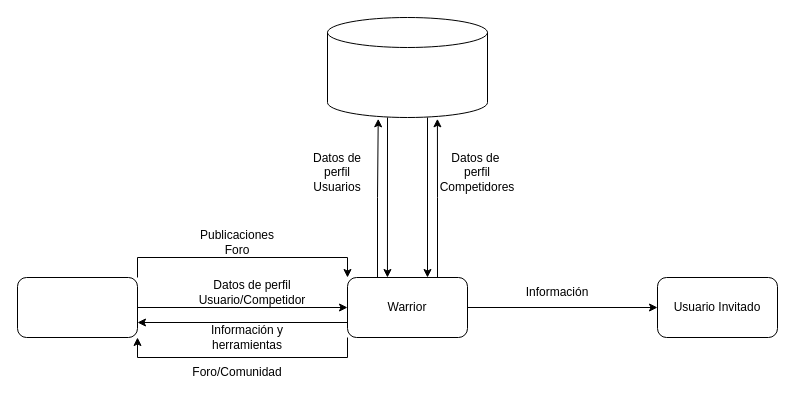
The diagram is 795 pixels wide and 405 high, and some of its shapes have lost their labels. The centre of each missing label's shape, as x and y in pixels:
Base de Datos: the point at 407,67
Usuario Registrado: the point at 77,307
